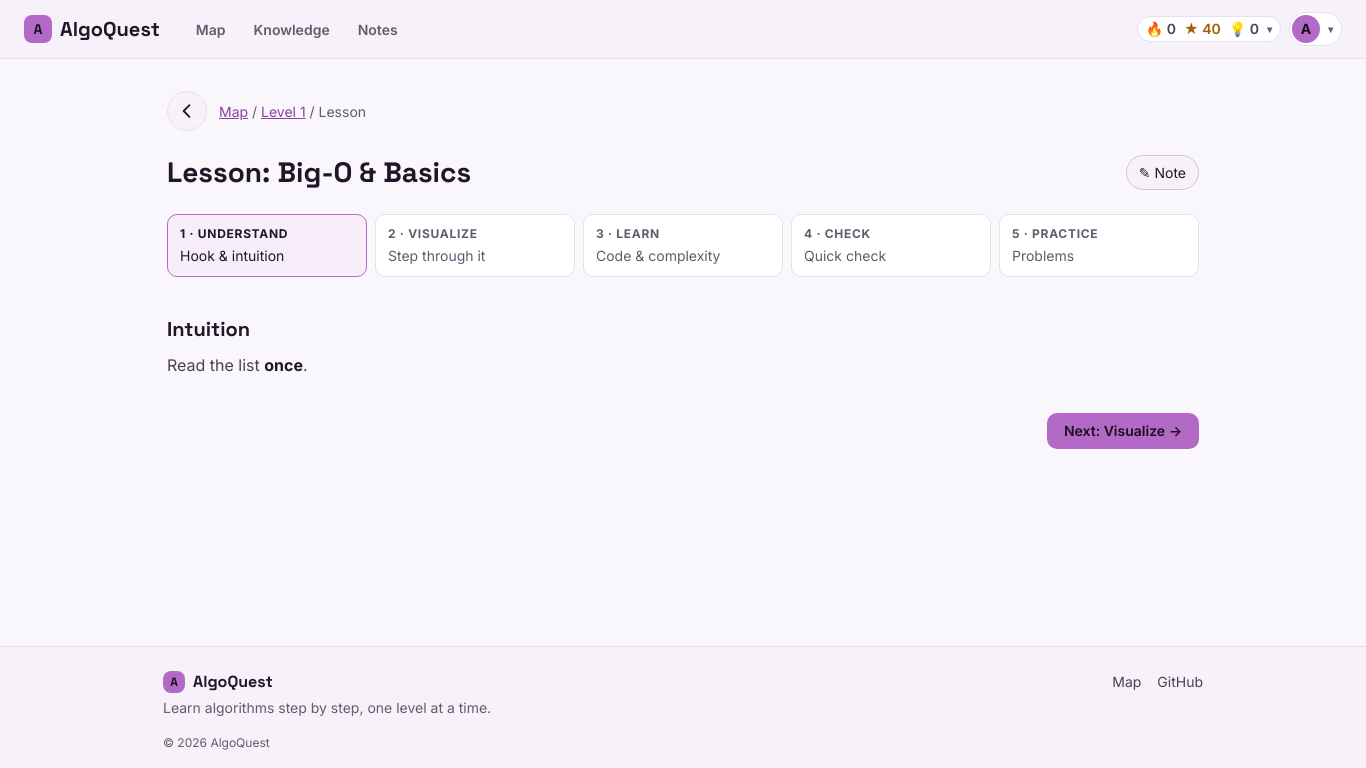
Test: notes › quick notes on the lesson page › opens and closes with N and closes with Escape
Check: the button with aria-label "Open quick notes (N)" is shown, box 1126,155 -> 1199,190
Type keys "n"
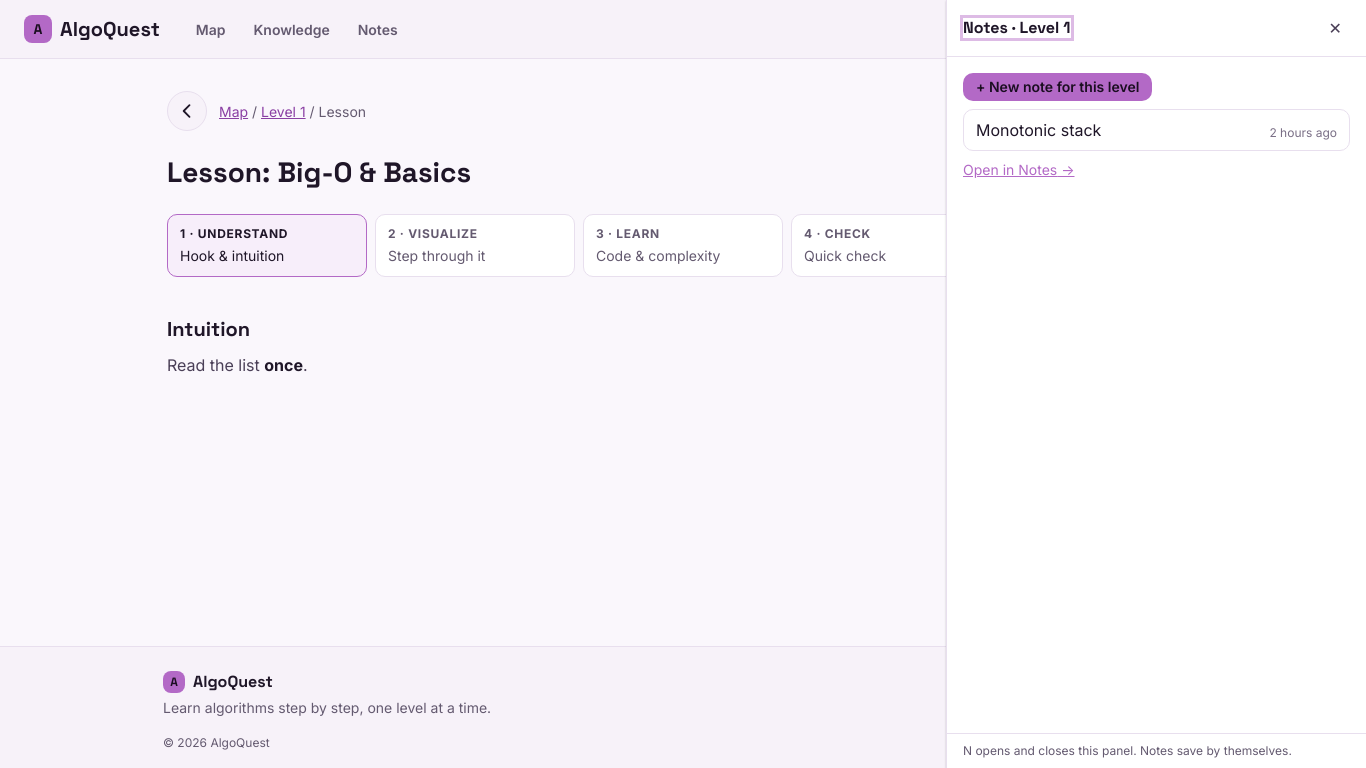
Check: the element "Notes · Level 1" is shown, box 946,0 -> 1365,767
Press Escape
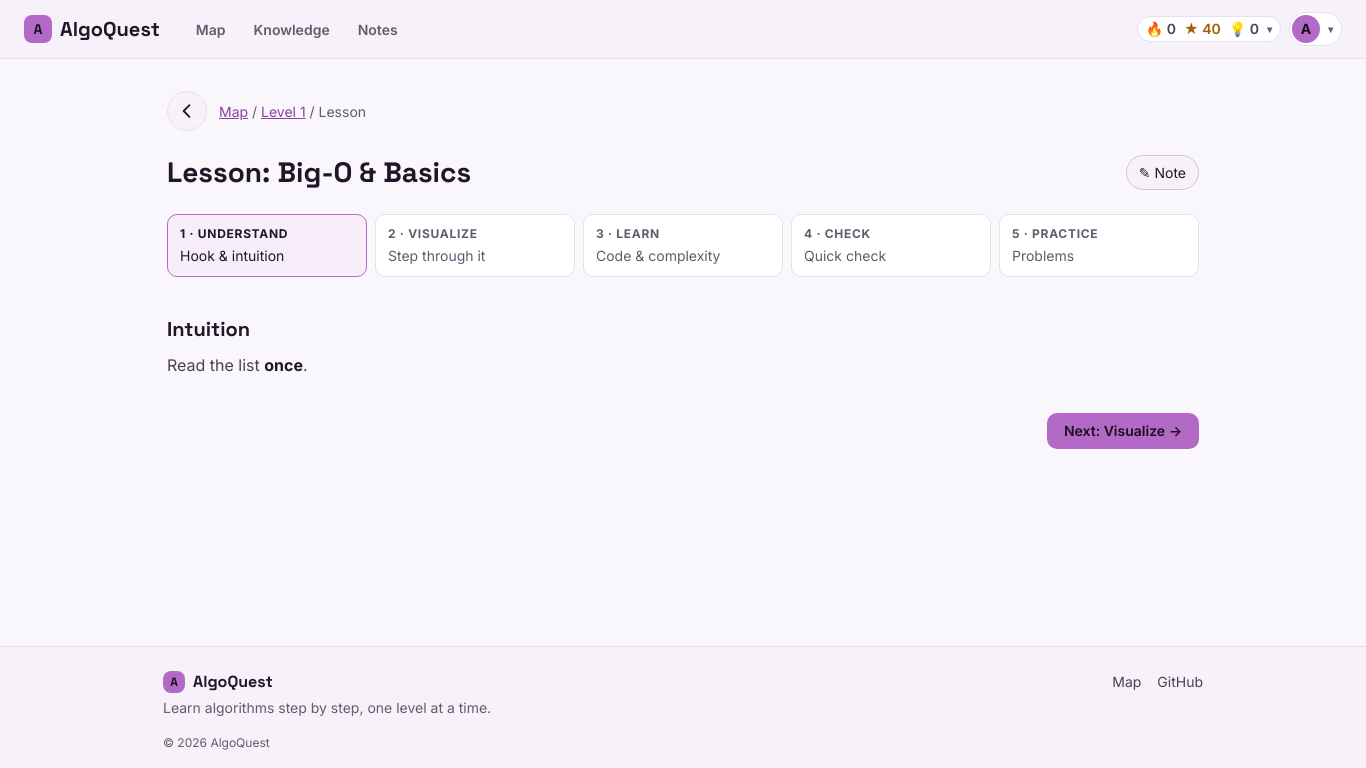
Check: the heading "Notes · Level 1" is gone
Type keys "N"
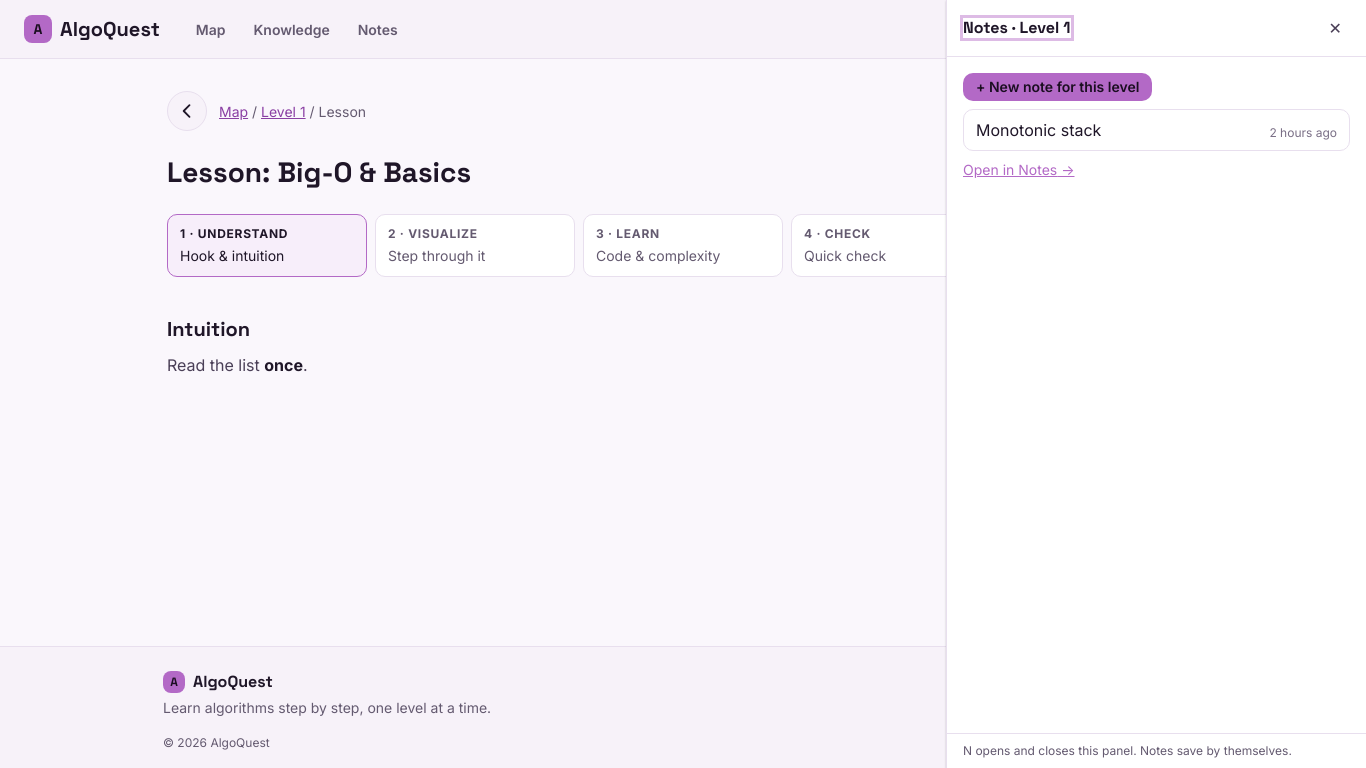
Check: the element "Notes · Level 1" is shown, box 946,0 -> 1365,767
Click the button named "Close notes" at (1335, 28), box 1321,12 -> 1350,44
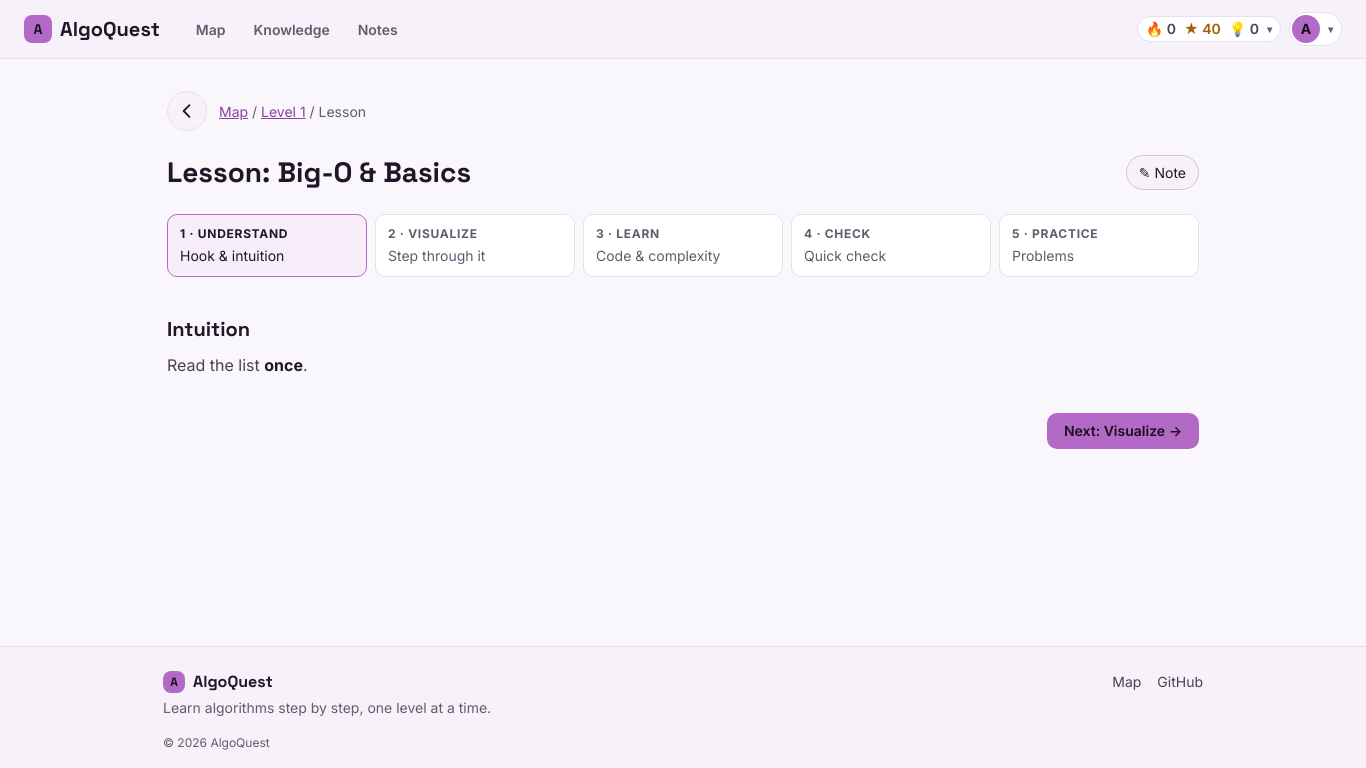
Check: the heading "Notes · Level 1" is gone
